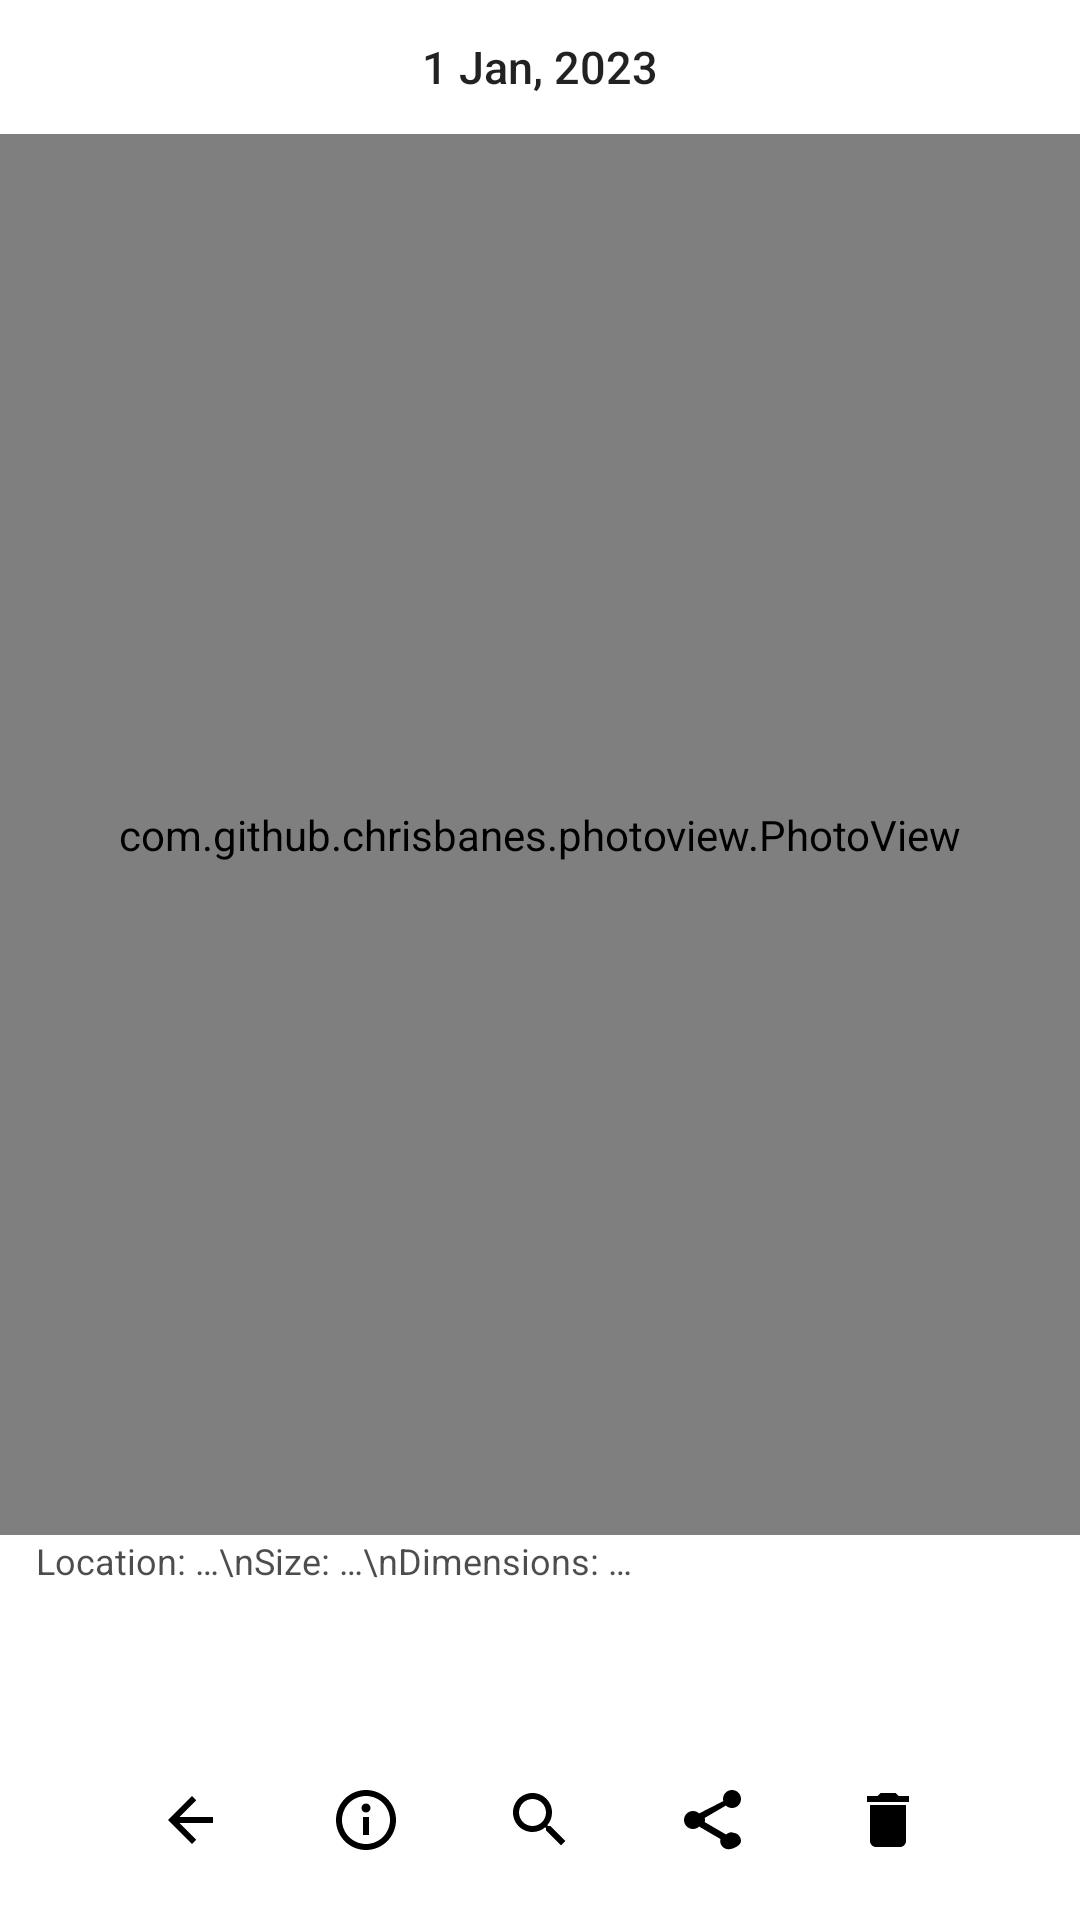

Icon bounding boxes for this 1080x1920 phone screenshot, format (x1, y1, x2, y2):
Back: (168, 1796, 213, 1844)
Delete: (867, 1793, 909, 1847)
Find similar: (513, 1793, 565, 1845)
Info: (336, 1790, 396, 1850)
Share: (684, 1790, 741, 1850)
